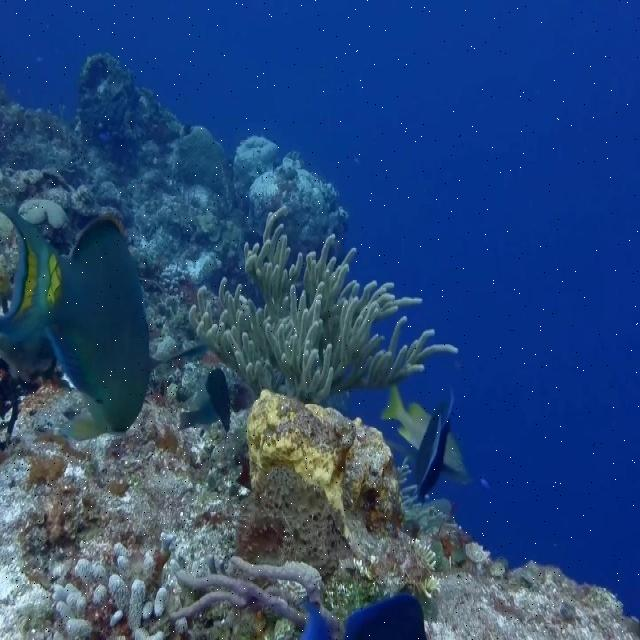fish: (0, 201, 154, 442), (301, 587, 429, 639), (417, 387, 456, 498), (179, 369, 236, 436), (380, 382, 429, 450), (444, 434, 470, 482)
reefs: (186, 202, 462, 405), (148, 555, 328, 631)
sea-floor: (0, 50, 639, 637)
